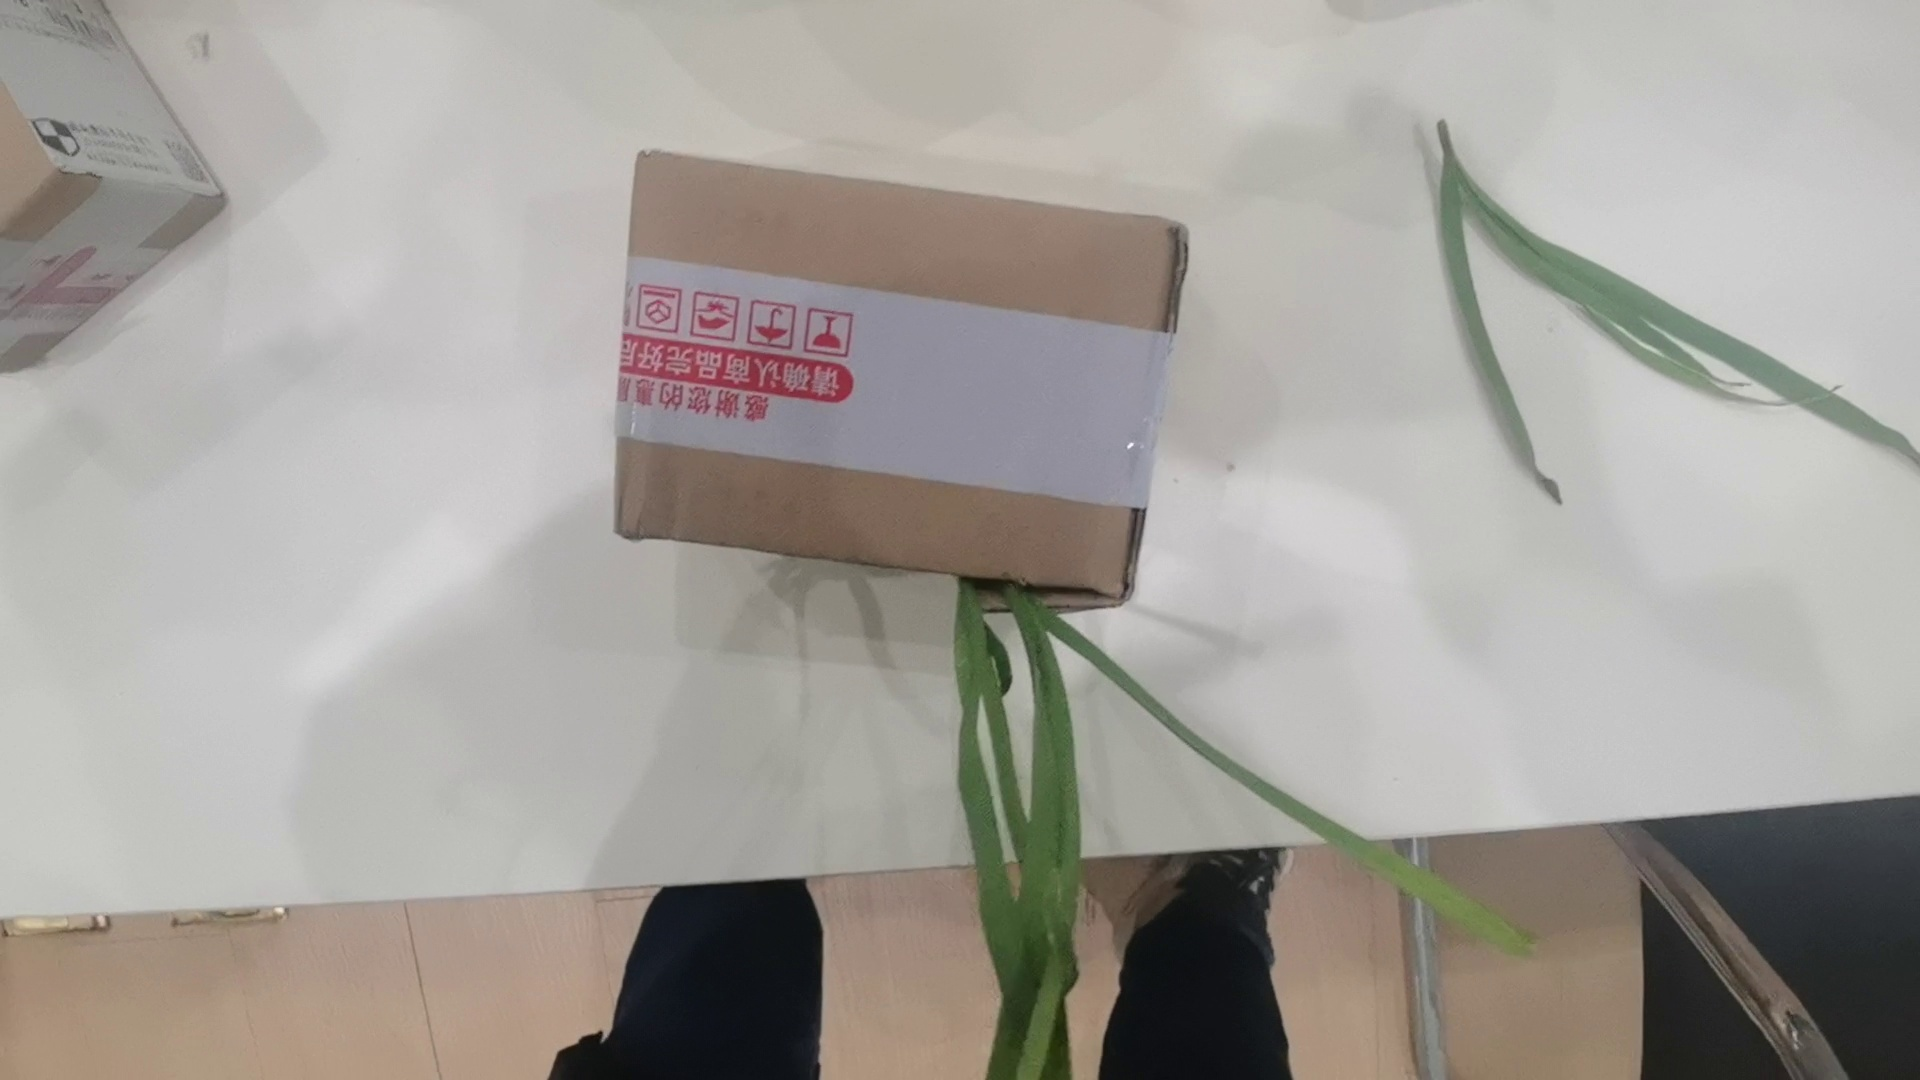chives: (898, 576, 1580, 1080), (1431, 116, 1920, 502)
